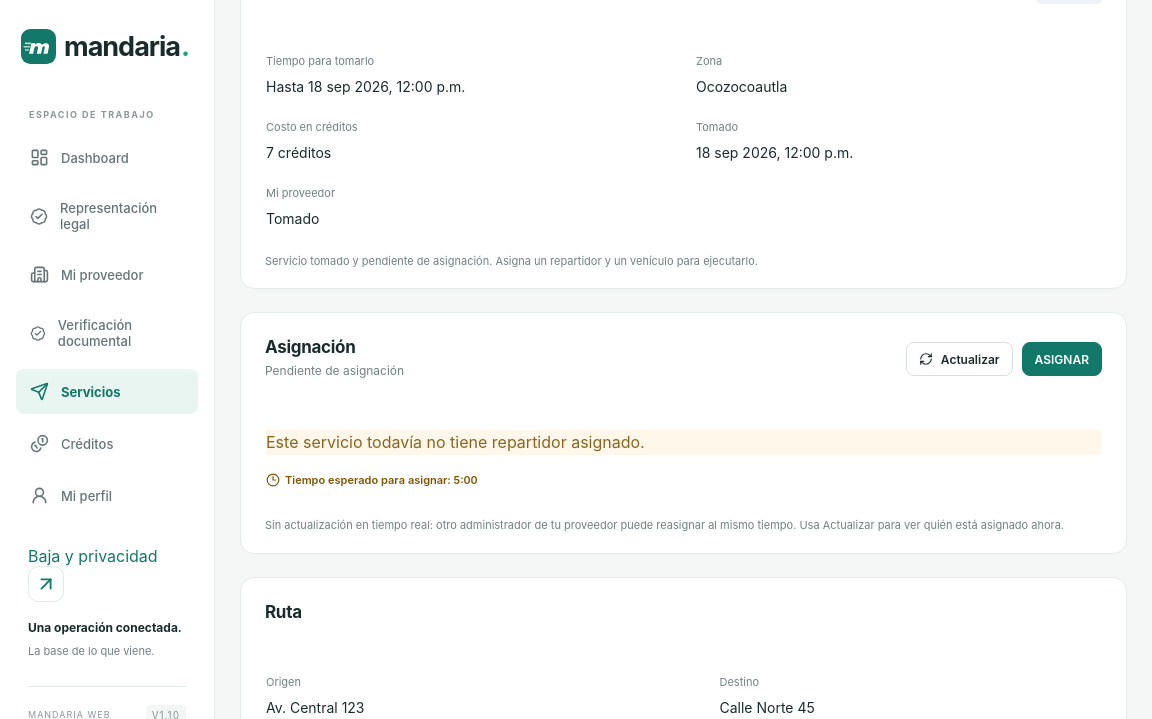
it: assign › refuses to submit without a driver and a vehicle
(page scrolled)
Click the button "ASIGNAR": (1062, 359) [1022,342,1102,376]
(page scrolled)
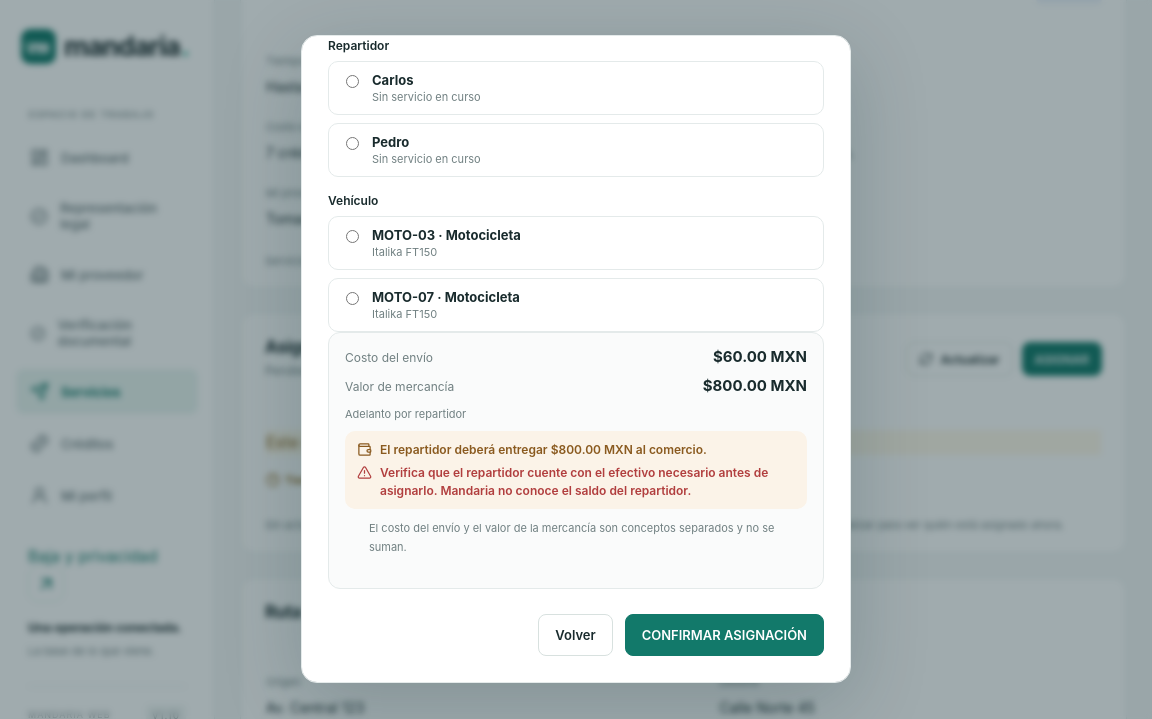
expect the dialog is shown: met, box [301,35,851,683]
Click the button "CONFIRMAR ASIGNACIÓN": (724, 635) [625,614,824,656]
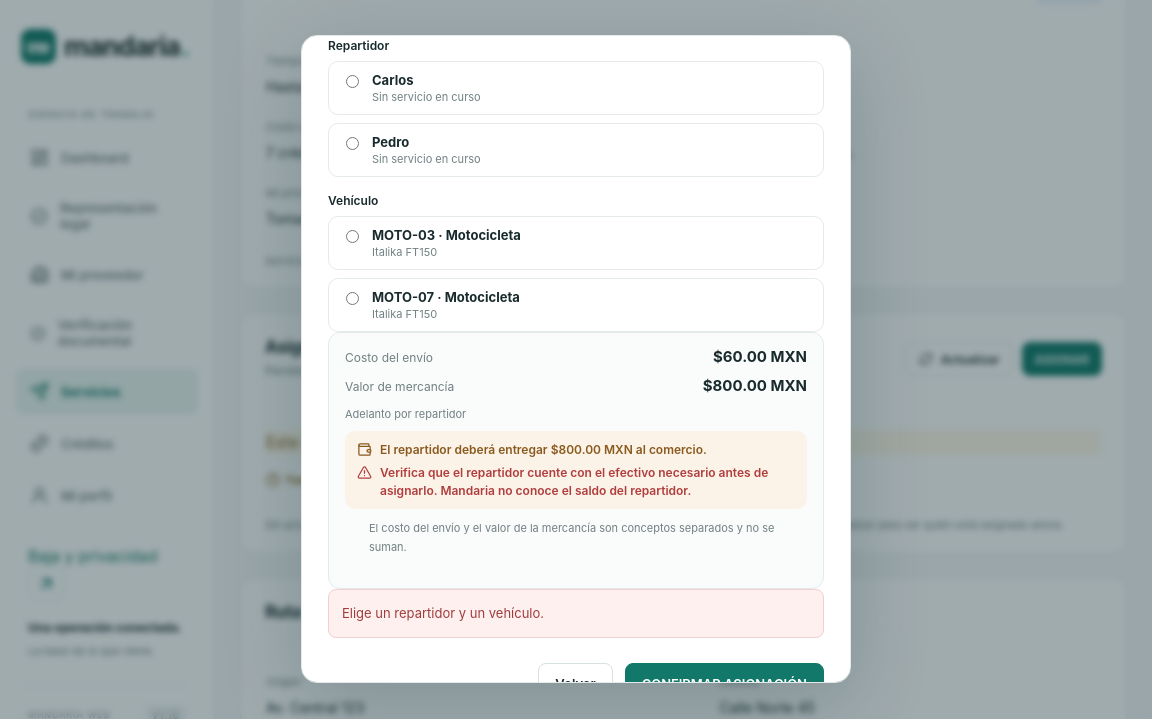
expect the message reads "Elige un repartidor y un vehículo.": met, box [342,605,544,621]
